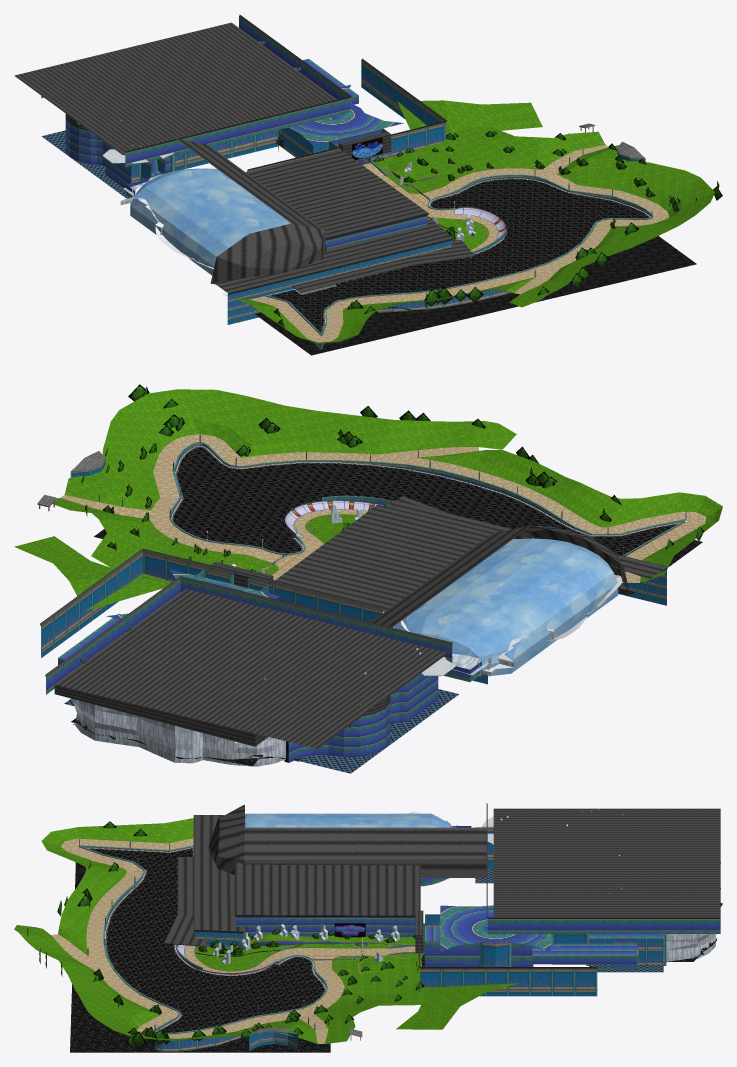
The picture shows the model from 3 angles, top to bottom: view 1: azimuth 30°, elevation 25°; view 2: azimuth 150°, elevation 25°; view 3: azimuth 270°, elevation 25°; orthographic projection. The views are drawn at different scales.
Parts seen in each view (by area): view 1: gray trim.006Mesh, grass.006Mesh, water.006Mesh, wallssmw.005Mesh, wall wave.006Mesh, skywall.006Mesh, pretty stone.006Mesh, refract.006Mesh, no culling transparent.006Mesh, tilefish.006Mesh, edge foam.006Mesh; view 2: gray trim.006Mesh, grass.006Mesh, water.006Mesh, skywall.006Mesh, pretty stone.006Mesh, wallssmw.005Mesh, wall wave.006Mesh, rocks.006Mesh, no culling transparent.006Mesh, tilefish.006Mesh, edge foam.006Mesh, refract.006Mesh (+2 smaller); view 3: gray trim.006Mesh, grass.006Mesh, water.006Mesh, wall wave.006Mesh, wallssmw.005Mesh, pretty stone.006Mesh, no culling transparent.006Mesh, refract.006Mesh, skywall.006Mesh, rocks.006Mesh, sand.006Mesh, edge foam.006Mesh (+3 smaller).
Part boxes in pixels (x1,y1,x2,y2): gray trim.006Mesh: (14,14,505,294); grass.006Mesh: (223,100,715,343); water.006Mesh: (265,136,649,335); wallssmw.005Mesh: (131,41,653,350); wall wave.006Mesh: (65,17,505,253); skywall.006Mesh: (130,168,290,275); pretty stone.006Mesh: (249,145,669,342); refract.006Mesh: (255,134,696,355); no culling transparent.006Mesh: (41,41,722,333); tilefish.006Mesh: (41,130,171,198); edge foam.006Mesh: (268,178,650,333); gray trim.006Mesh: (40,496,667,761); grass.006Mesh: (14,389,722,610); water.006Mesh: (173,447,685,556); skywall.006Mesh: (392,538,618,676); pretty stone.006Mesh: (61,434,706,582); wallssmw.005Mesh: (41,442,686,684); wall wave.006Mesh: (46,495,481,762); rocks.006Mesh: (73,615,587,766); no culling transparent.006Mesh: (80,384,704,727); tilefish.006Mesh: (64,689,458,773); edge foam.006Mesh: (171,446,679,553); refract.006Mesh: (71,529,702,766); gray trim.006Mesh: (164,803,720,974); grass.006Mesh: (14,818,519,1043); water.006Mesh: (89,848,533,1039); wall wave.006Mesh: (175,826,720,970); wallssmw.005Mesh: (78,827,666,1051); pretty stone.006Mesh: (51,838,415,1043); no culling transparent.006Mesh: (27,821,720,1049); refract.006Mesh: (70,862,722,1052); skywall.006Mesh: (245,813,451,827); rocks.006Mesh: (420,825,715,962); sand.006Mesh: (212,924,716,964); edge foam.006Mesh: (87,847,325,1031).
Size of the model in its own units: 99978 by 14271 by 124556.
36 materials, 36 textured.
